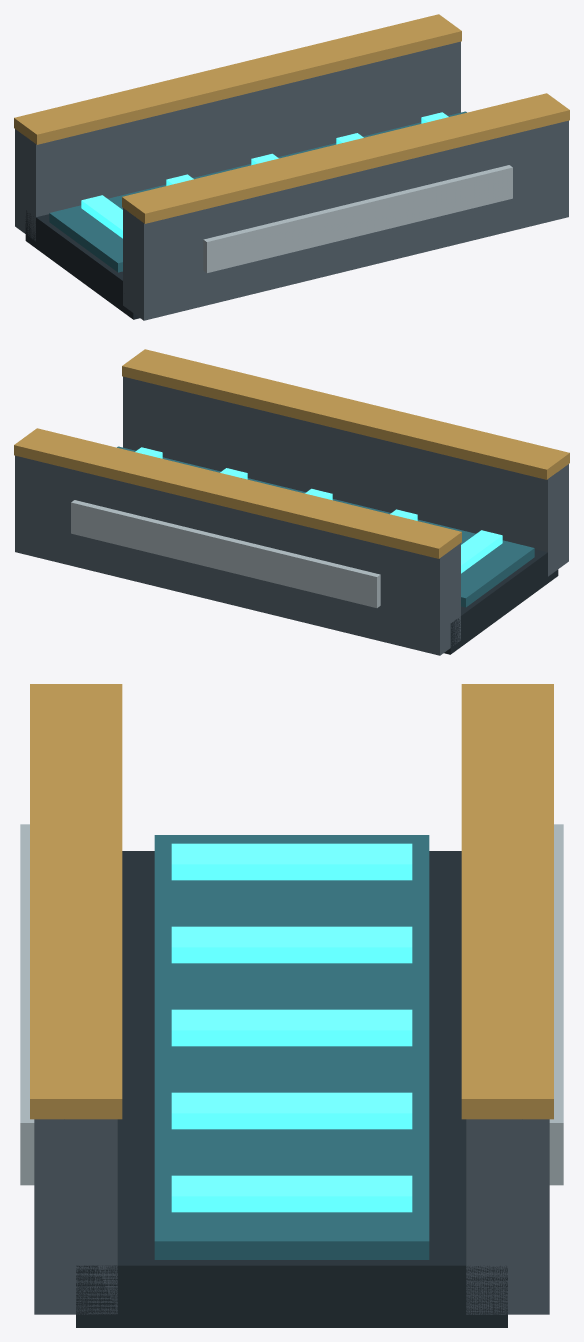
The model's file is moat.glb.
3 renders of one model, top to bottom at view 1: azimuth 30°, elevation 25°; view 2: azimuth 150°, elevation 25°; view 3: azimuth 270°, elevation 25°, orthographic. The views are drawn at different scales.
Parts seen in each view (by area): view 1: low retaining channel wall, low retaining channel wall.001, channel brass coping, channel brass coping.001, retaining wall reinforcement, open data trench bed, recessed data conductor, submerged topology conductor; view 2: low retaining channel wall.001, low retaining channel wall, channel brass coping.001, channel brass coping, retaining wall reinforcement.001, open data trench bed, recessed data conductor, submerged topology conductor; view 3: recessed data conductor, open data trench bed, channel brass coping, channel brass coping.001, low retaining channel wall.001, low retaining channel wall, submerged topology conductor, submerged topology conductor.001, submerged topology conductor.002, submerged topology conductor.003, submerged topology conductor.004, retaining wall reinforcement (+1 smaller).
Boxes of the visible parts, left/top/right/bottom form: low retaining channel wall: left=123, top=120, right=568, bottom=320; low retaining channel wall.001: left=15, top=41, right=460, bottom=241; channel brass coping: left=122, top=93, right=569, bottom=223; channel brass coping.001: left=14, top=14, right=461, bottom=144; retaining wall reinforcement: left=203, top=165, right=512, bottom=272; open data trench bed: left=25, top=210, right=139, bottom=319; recessed data conductor: left=49, top=111, right=466, bottom=272; submerged topology conductor: left=81, top=195, right=122, bottom=238; low retaining channel wall.001: left=15, top=455, right=460, bottom=655; low retaining channel wall: left=123, top=376, right=568, bottom=576; channel brass coping.001: left=14, top=428, right=461, bottom=558; channel brass coping: left=122, top=349, right=569, bottom=479; retaining wall reinforcement.001: left=71, top=500, right=380, bottom=607; open data trench bed: left=444, top=549, right=558, bottom=654; recessed data conductor: left=117, top=446, right=534, bottom=607; submerged topology conductor: left=461, top=530, right=502, bottom=573; recessed data conductor: left=154, top=835, right=429, bottom=1259; open data trench bed: left=76, top=851, right=507, bottom=1327; channel brass coping: left=30, top=684, right=122, bottom=1119; channel brass coping.001: left=461, top=684, right=553, bottom=1119; low retaining channel wall.001: left=466, top=1119, right=549, bottom=1314; low retaining channel wall: left=34, top=1119, right=117, bottom=1314; submerged topology conductor: left=171, top=843, right=412, bottom=880; submerged topology conductor.001: left=171, top=926, right=412, bottom=963; submerged topology conductor.002: left=171, top=1009, right=412, bottom=1046; submerged topology conductor.003: left=171, top=1092, right=412, bottom=1129; submerged topology conductor.004: left=171, top=1175, right=412, bottom=1212; retaining wall reinforcement: left=20, top=824, right=34, bottom=1185.
Size of the model in its own units: 1 by 0.2575 by 0.5536.
